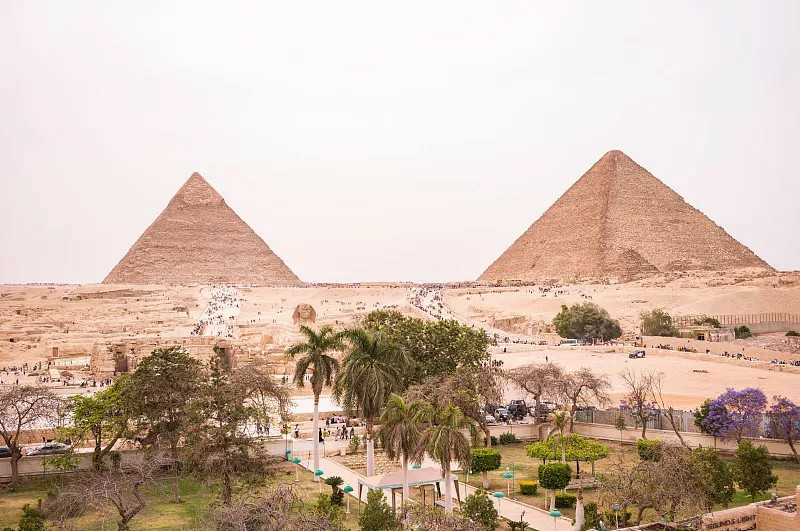Pyramid: (475, 149, 779, 283), (102, 172, 308, 288)
